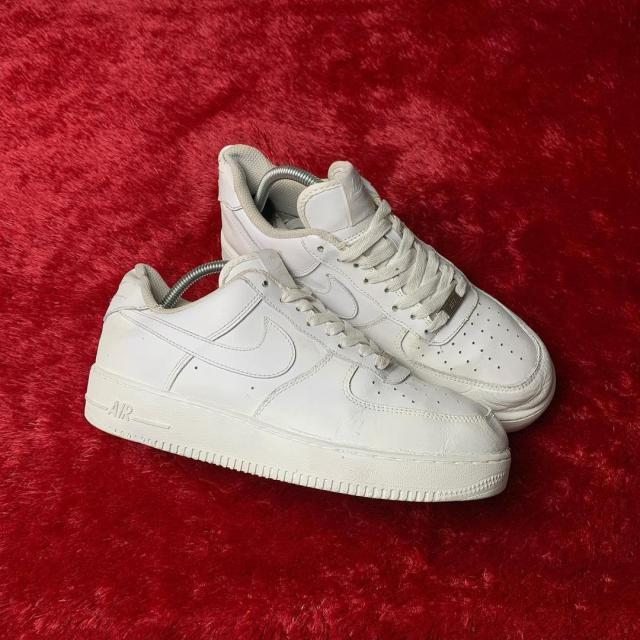nike fake air force: (75, 262, 516, 507), (205, 147, 561, 429)
